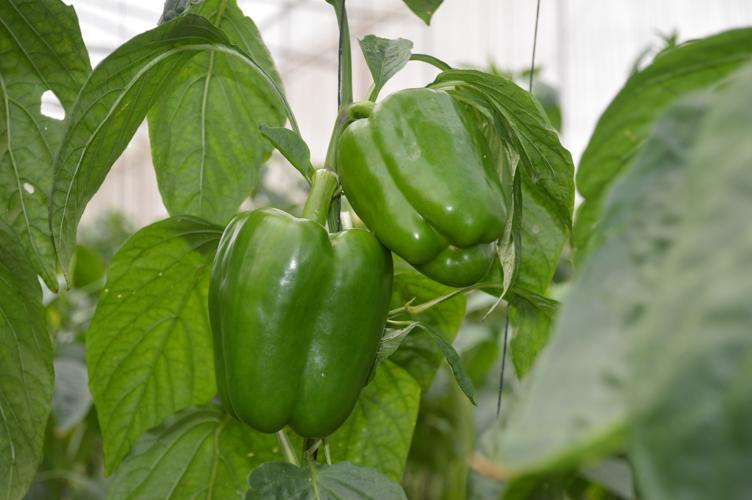BellPepper: (206, 207, 396, 438), (336, 89, 505, 283)
